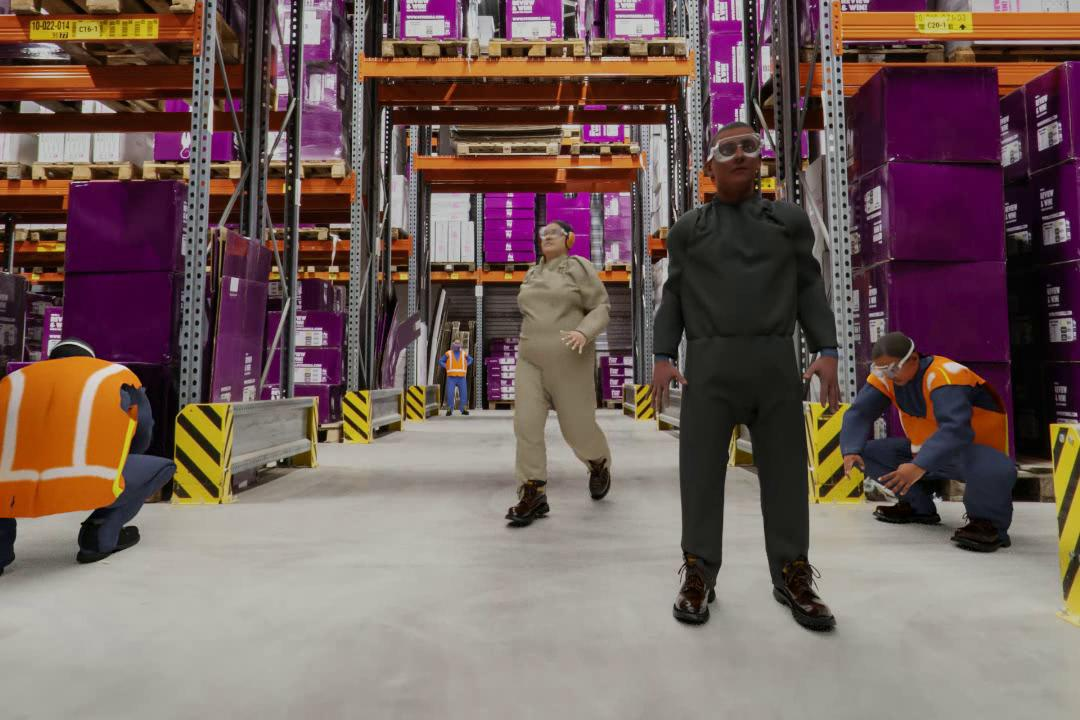Goggles: (711, 134, 773, 164), (859, 361, 913, 378), (536, 226, 570, 239)
Jacket: (0, 360, 126, 514), (871, 381, 1006, 444), (448, 350, 466, 377)
Shoes: (759, 546, 843, 640), (663, 546, 723, 639), (506, 463, 554, 546), (941, 516, 1019, 556), (871, 486, 943, 527), (577, 451, 619, 503), (444, 408, 453, 418), (460, 407, 470, 416)
